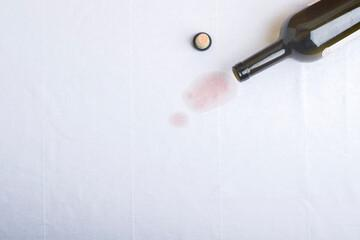gun: (186, 75, 234, 106), (169, 113, 186, 126)
